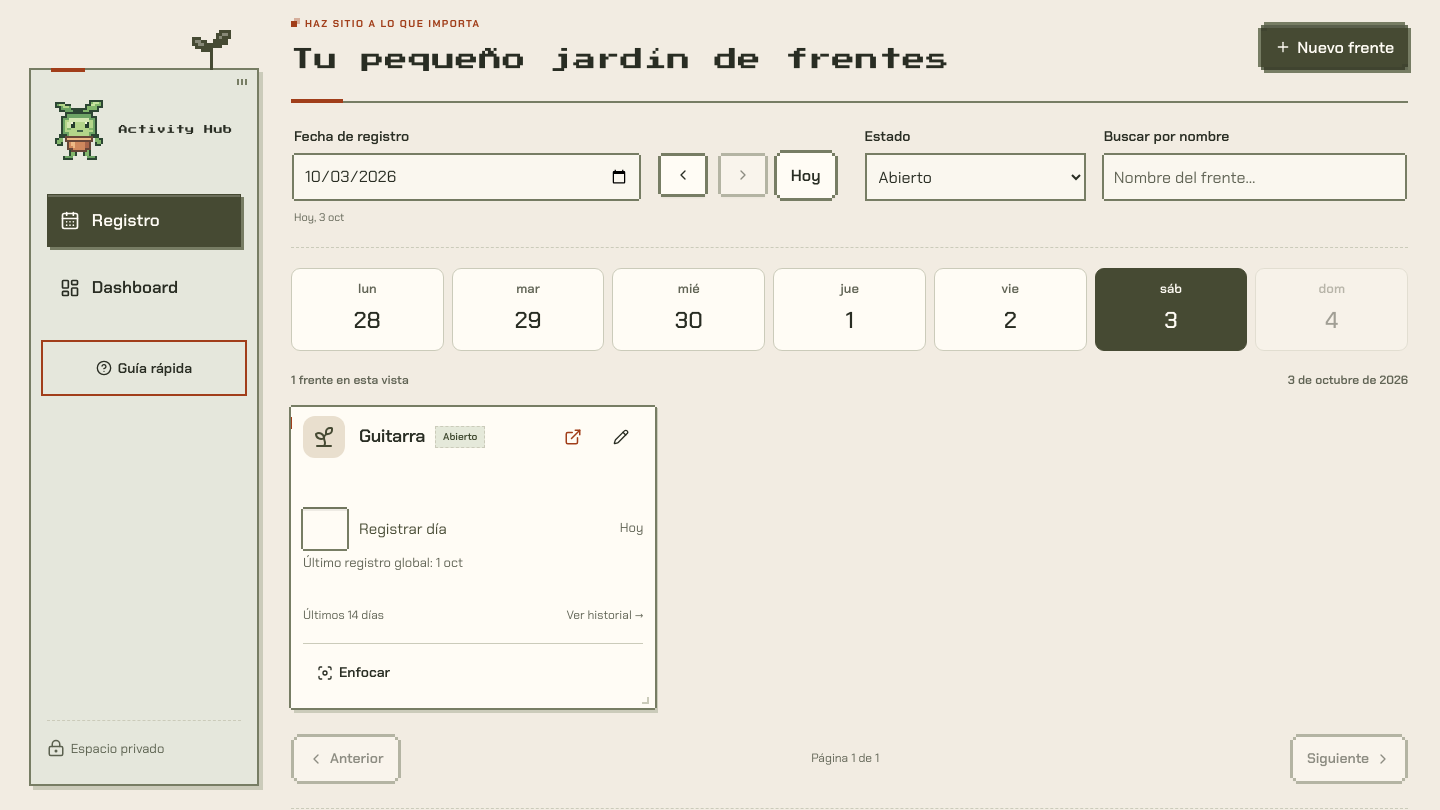
Test: Guía inicial de Jardín › las cuentas anteriores tienen guía manual y no escriben una preferencia inexistente
The width and height of the screenshot is (1440, 810).
Expected: the heading "Guitarra" is shown, [359,424,425,449]
Press Enter
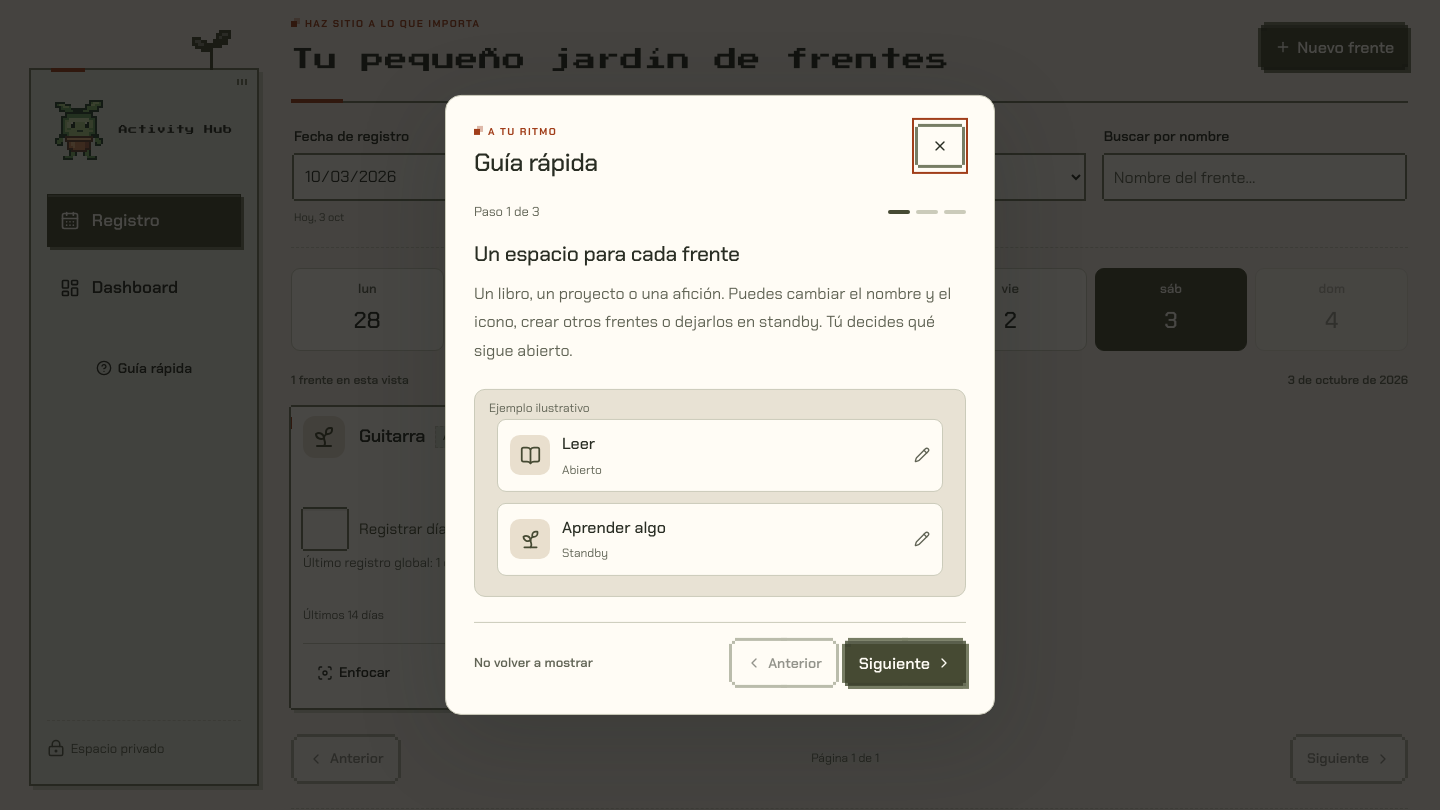
Now the dialog "Guía rápida" is shown, box [445,95,995,715]
Click the button named "Cerrar guía" at {"x": 940, "y": 146}, box [918,124,962,168]
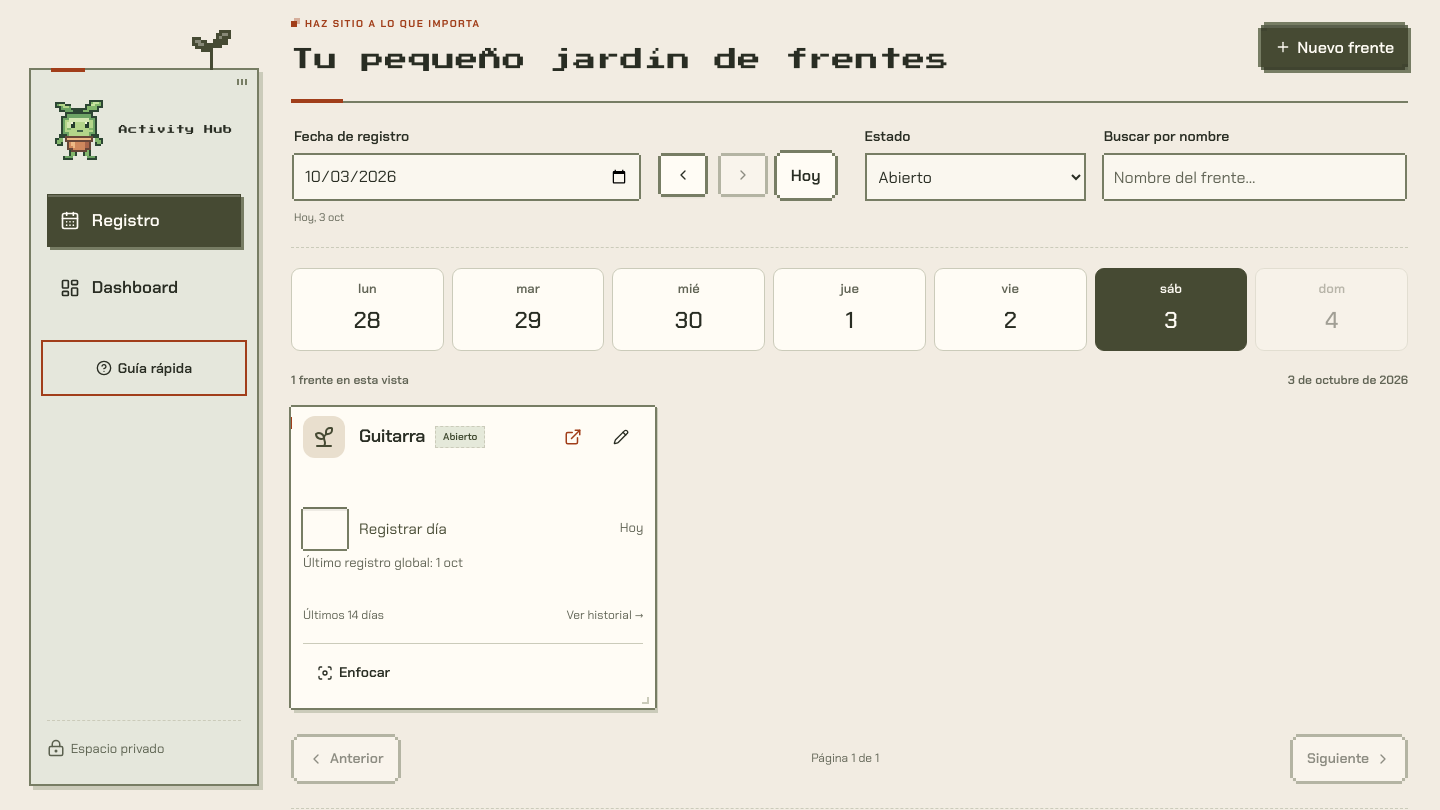
Now the dialog is gone
